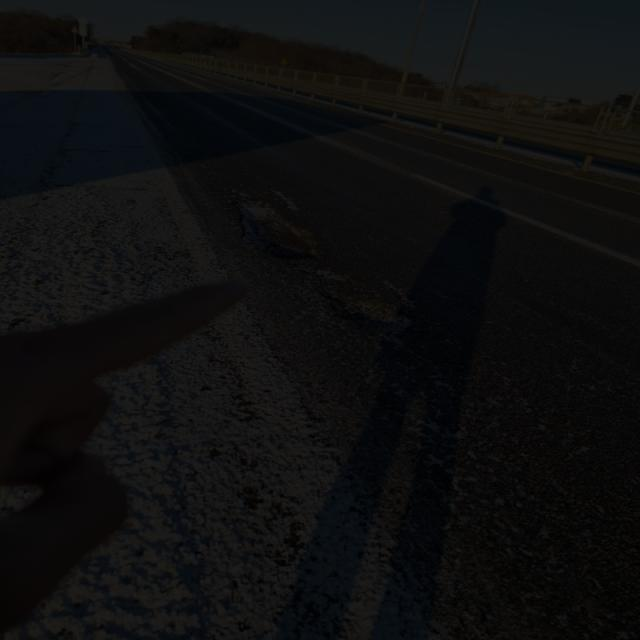pothole: (201, 179, 374, 260), (306, 274, 411, 366)
